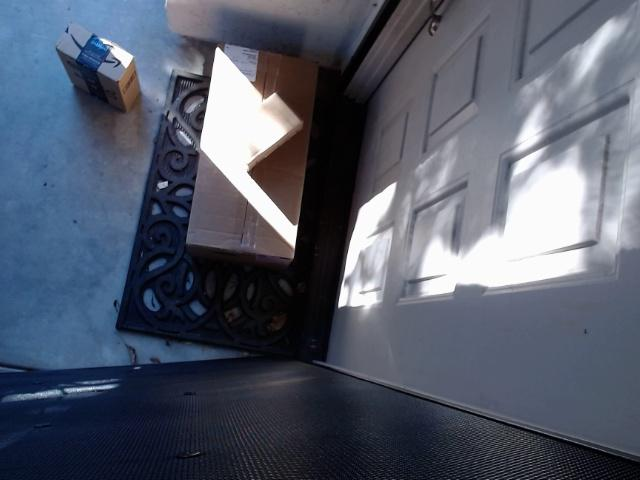box: (185, 41, 317, 271), (54, 21, 142, 115), (224, 92, 302, 174)
